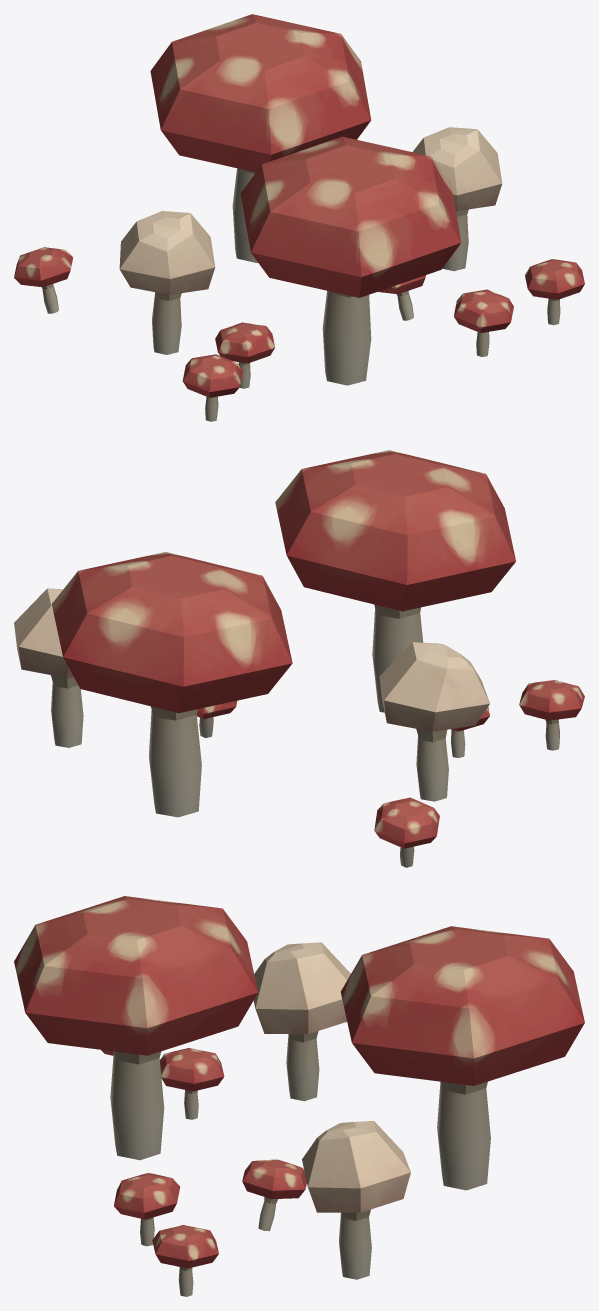
The model's file is mushrooms1.fbx.
3 renders of one model, top to bottom at view 1: azimuth 30°, elevation 25°; view 2: azimuth 150°, elevation 25°; view 3: azimuth 270°, elevation 25°, orthographic. The views are drawn at different scales.
Visible parts, largest first — view 1: SM_SpawnWall.025; view 2: SM_SpawnWall.025; view 3: SM_SpawnWall.025.
Boxes of the visible parts, box(x1,y1,x2,y2) form: SM_SpawnWall.025: box(14, 14, 584, 421); SM_SpawnWall.025: box(14, 450, 584, 867); SM_SpawnWall.025: box(14, 896, 584, 1296).
Bounding box in the file's own units: 638 × 318 × 643.
1 material, 1 textured.
